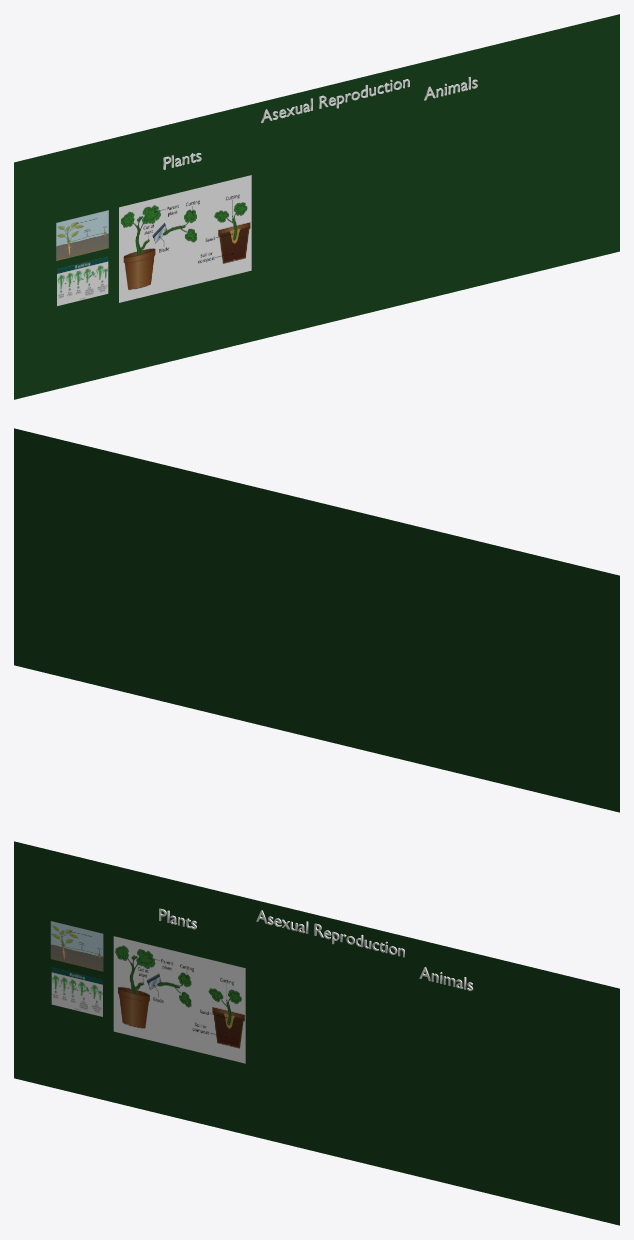
File: propo.gltf
3 renders of one model, top to bottom at view 1: azimuth 30°, elevation 25°; view 2: azimuth 150°, elevation 25°; view 3: azimuth 330°, elevation 25°, orthographic.
Parts seen in each view (by area): view 1: Plane.013, Plane, Plane.001, Plane.002, Text.001; view 2: Plane.013; view 3: Plane.013, Plane, Plane.001, Plane.002, Text.001.
Part boxes in pixels (x1,y1,x2,y2): Plane.013: [14, 14, 619, 399]; Plane: [119, 175, 251, 302]; Plane.001: [56, 210, 108, 260]; Plane.002: [57, 256, 108, 306]; Text.001: [261, 79, 409, 122]; Plane.013: [14, 428, 619, 812]; Plane.013: [14, 841, 619, 1225]; Plane: [113, 936, 245, 1063]; Plane.001: [50, 921, 103, 971]; Plane.002: [51, 967, 102, 1016]; Text.001: [256, 910, 404, 957].
Size of the model in its own units: 15.94 by 5.96 by 0.1459.
Materials: 7 (3 with a texture image).
